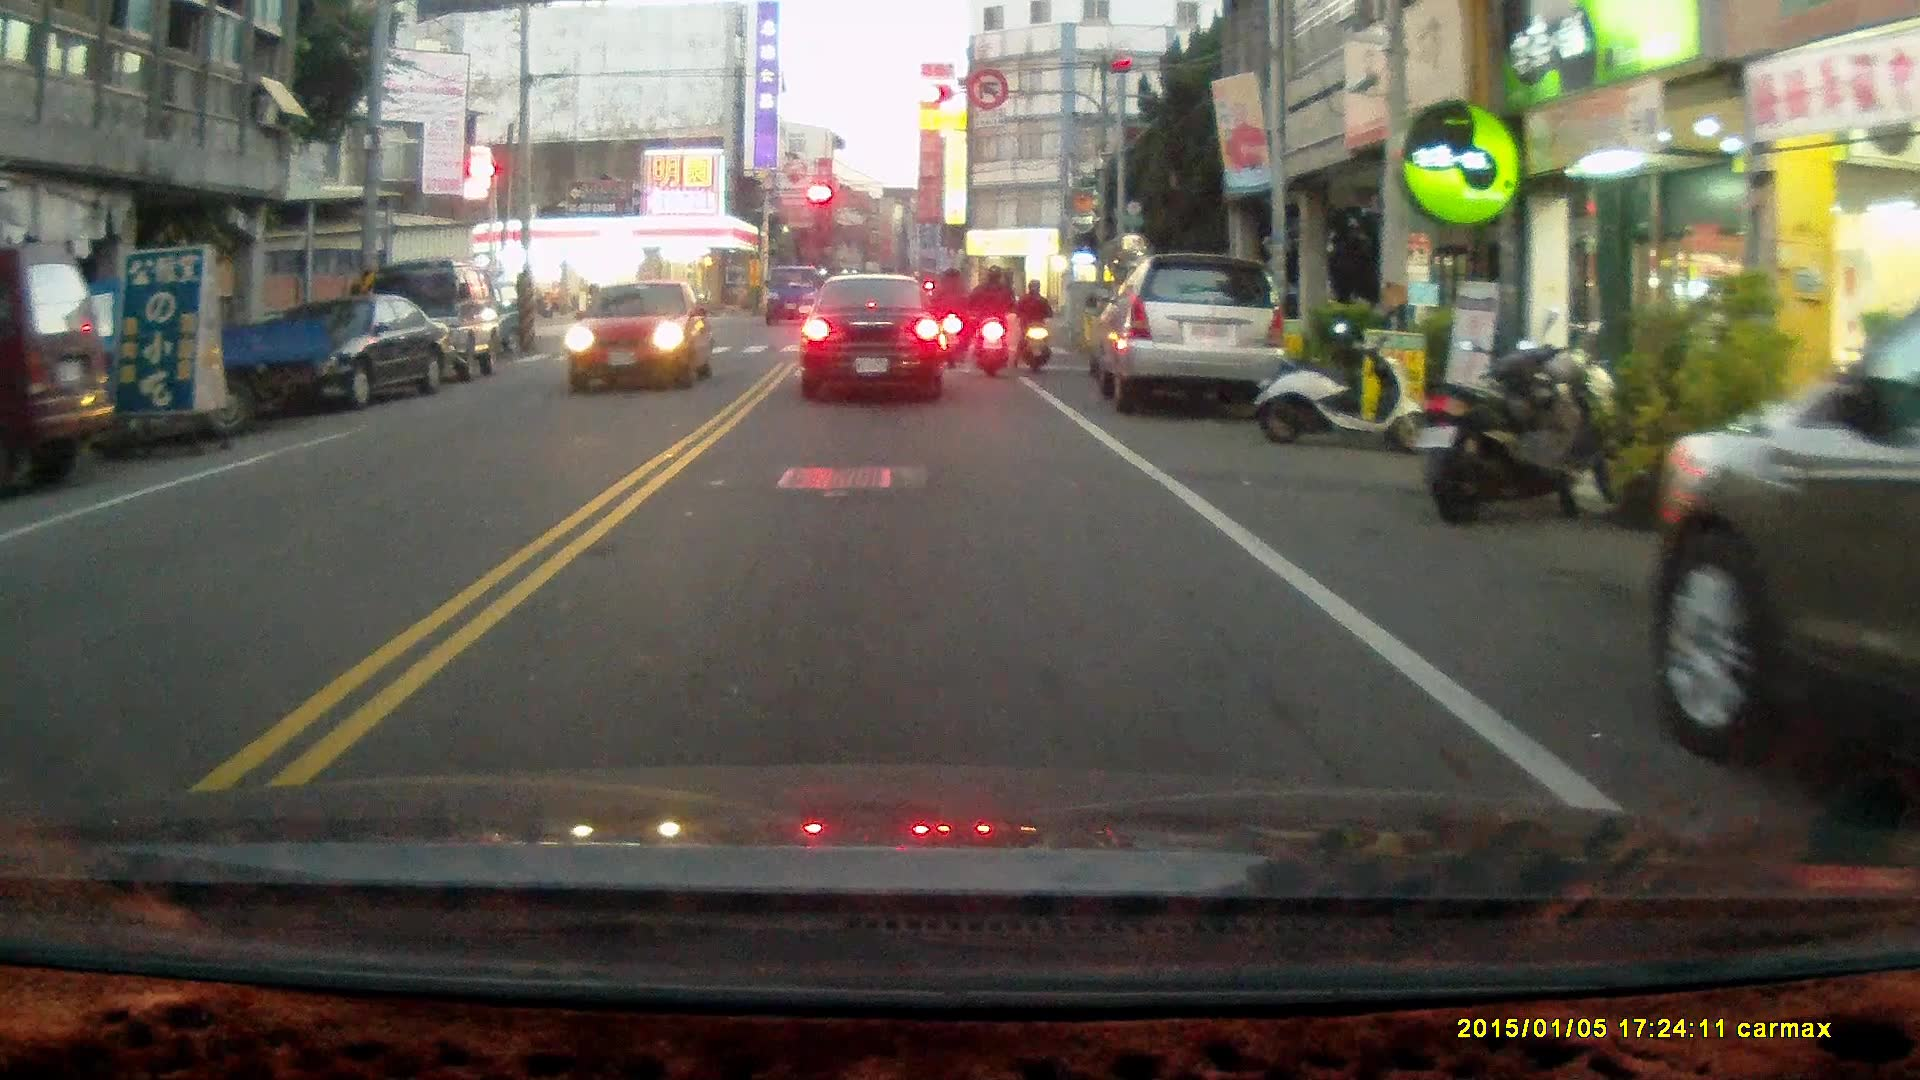rider: (963, 267, 1015, 382), (930, 268, 969, 372), (1014, 280, 1054, 379)
vehicle: (1648, 265, 1920, 825), (1091, 254, 1293, 425), (1, 240, 124, 495), (231, 293, 455, 412), (799, 272, 946, 407), (359, 256, 507, 390), (563, 279, 710, 395)
